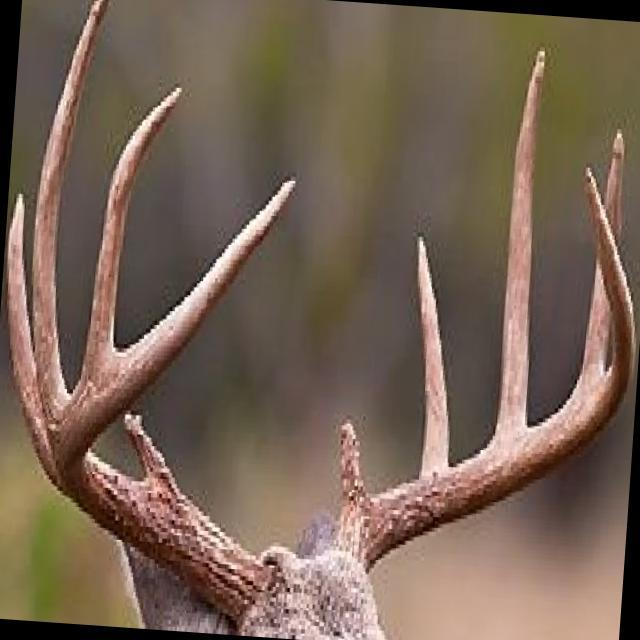L-F: (333, 156, 636, 577)
L-G1: (335, 415, 371, 515)
L-G2: (414, 224, 451, 478)
L-G3: (492, 41, 548, 437)
R-F: (54, 177, 299, 629)
R-G1: (122, 411, 181, 492)
R-G2: (5, 179, 59, 490)
R-G3: (29, 0, 110, 450)
R-G4: (80, 81, 185, 377)
